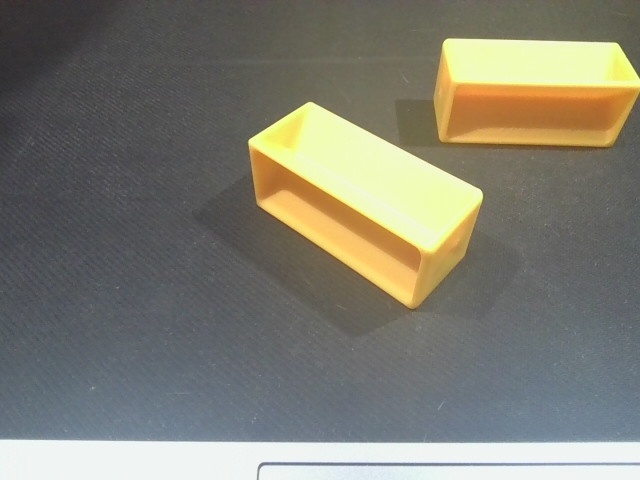YellowSample: (240, 99, 488, 313), (429, 34, 640, 153)
